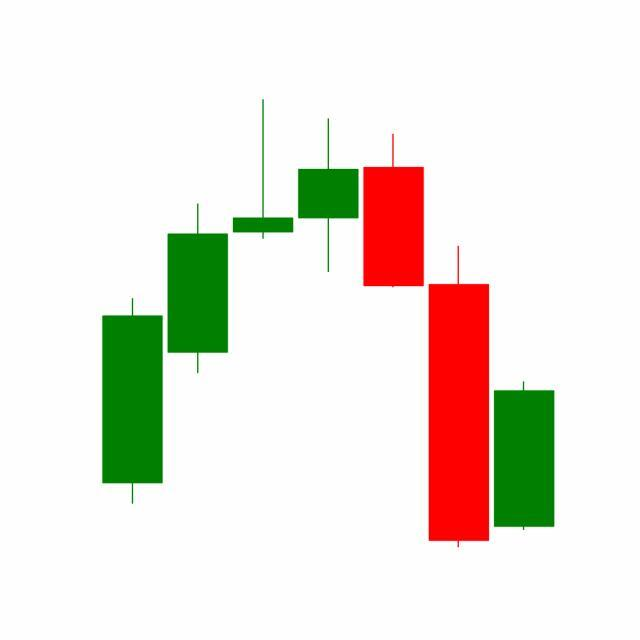Three Outside Up-Down: (295, 114, 492, 548)
